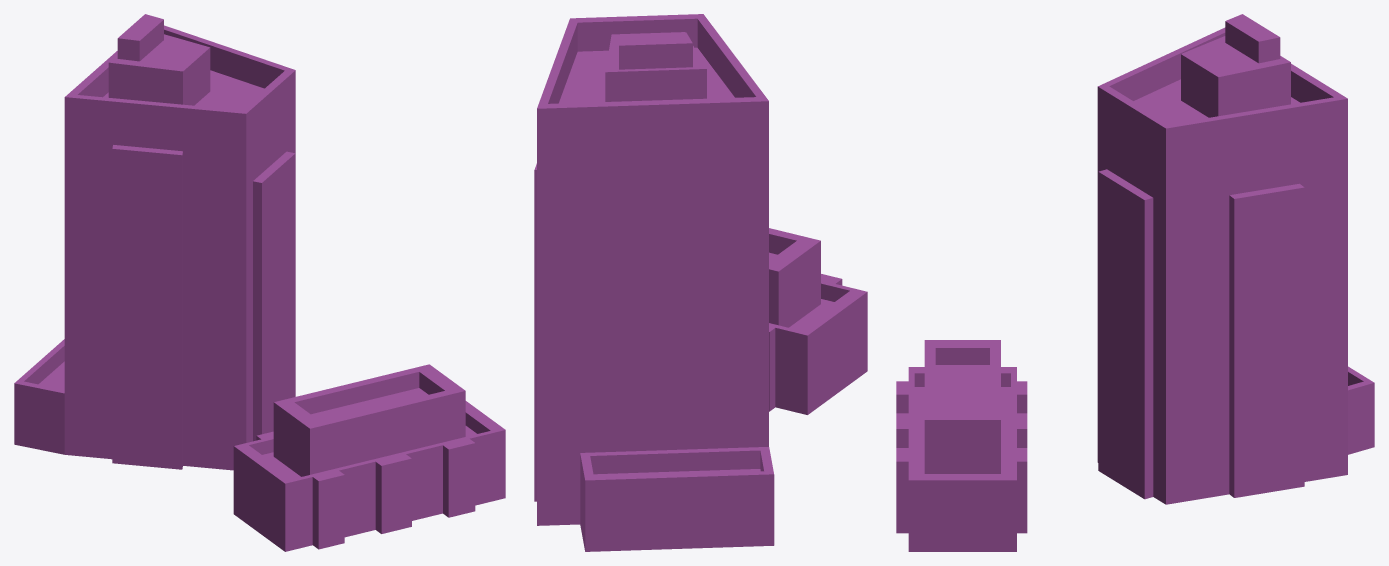
Rendered from HighDensity_03.fbx.
3 views of the same model, side by side, from view 1: azimuth 30°, elevation 25°; view 2: azimuth 150°, elevation 25°; view 3: azimuth 270°, elevation 25° (orthographic). The views are drawn at different scales.
Parts seen in each view (by area): view 1: polySurface1; view 2: polySurface1; view 3: polySurface1.
Boxes of the visible parts, box(x1,y1,x2,y2) form: polySurface1: box(14, 14, 505, 551); polySurface1: box(534, 14, 867, 551); polySurface1: box(896, 14, 1374, 551).
Bounding box in the file's own units: 5.01 × 6.06 × 6.25.
